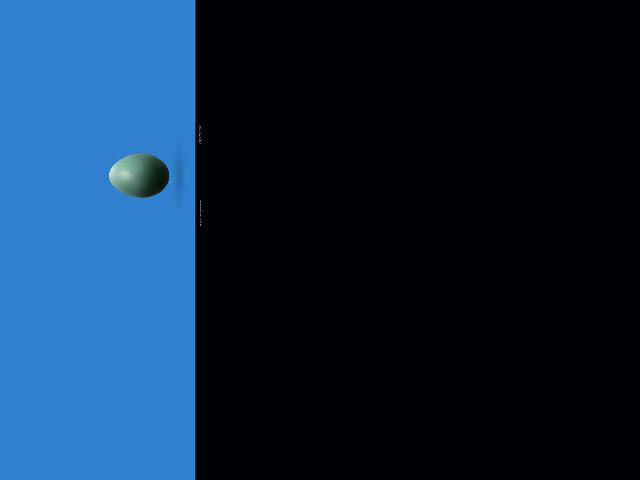egg: (108, 154, 168, 198)
